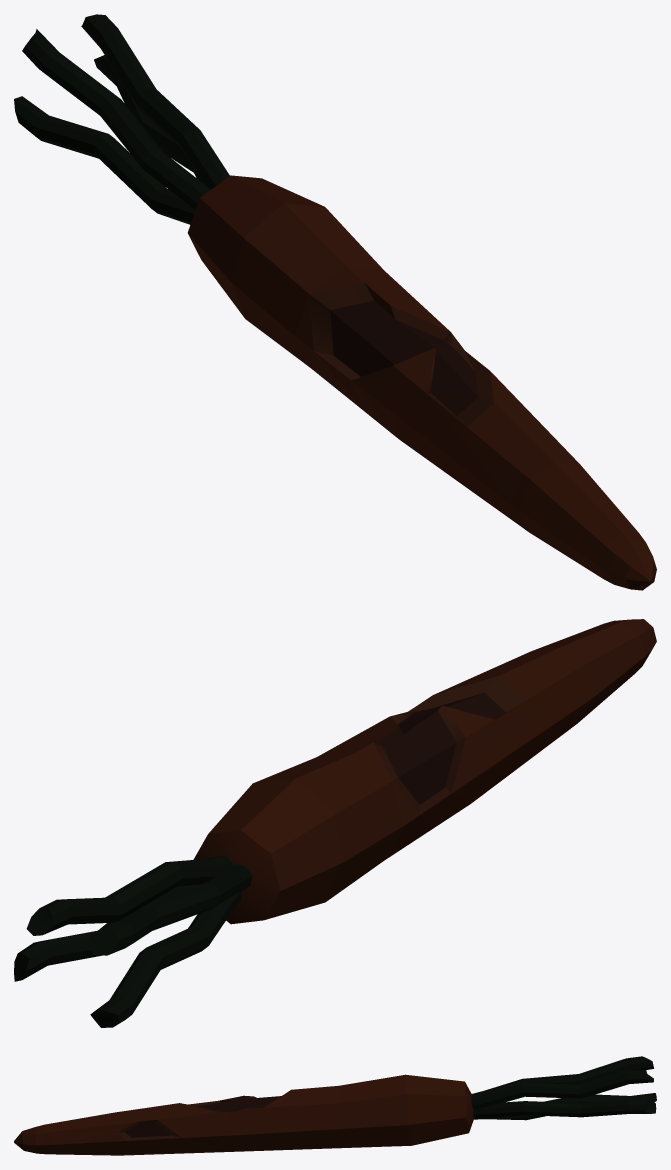
The model's file is FoodCarrotRottenPartial.fbx.
3 views of the same model, one above another, from view 1: azimuth 30°, elevation 25°; view 2: azimuth 150°, elevation 25°; view 3: azimuth 270°, elevation 25° (orthographic). The views are drawn at different scales.
Parts seen in each view (by area): view 1: CarrotRottenPartially; view 2: CarrotRottenPartially; view 3: CarrotRottenPartially.
Part boxes in pixels (box(x1,y1,x2,y2)): CarrotRottenPartially: box(14, 14, 656, 590); CarrotRottenPartially: box(14, 619, 656, 1027); CarrotRottenPartially: box(14, 1056, 656, 1155).
Size of the model in its own units: 6.94 by 9.88 by 63.38.
